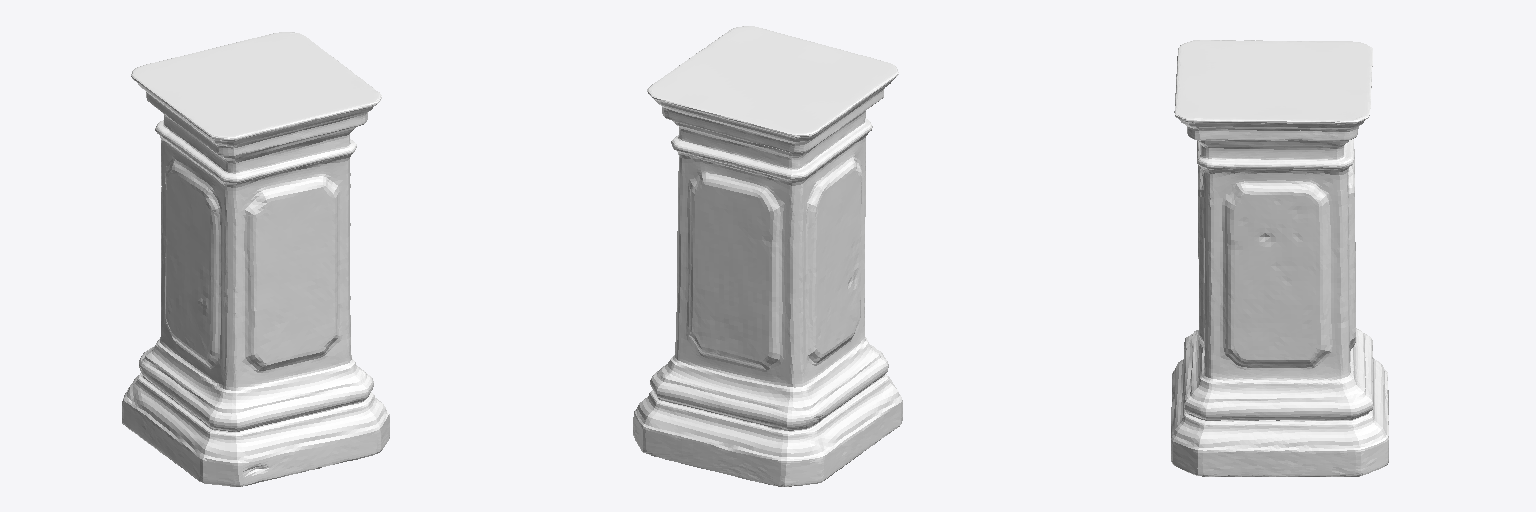
Rendered from classiccol.obj.
The picture shows the model from 3 angles: view 1: azimuth 30°, elevation 25°; view 2: azimuth 150°, elevation 25°; view 3: azimuth 270°, elevation 25°; orthographic projection.
Visible parts, largest first — view 1: classiccol_CLASSIC_COLUMN; view 2: classiccol_CLASSIC_COLUMN; view 3: classiccol_CLASSIC_COLUMN.
Boxes of the visible parts, x1=… form: classiccol_CLASSIC_COLUMN: x1=122, y1=32, x2=389, y2=486; classiccol_CLASSIC_COLUMN: x1=633, y1=26, x2=902, y2=486; classiccol_CLASSIC_COLUMN: x1=1171, y1=40, x2=1388, y2=476.
Bounding box in the file's own units: 1.98 × 3.5 × 1.97.